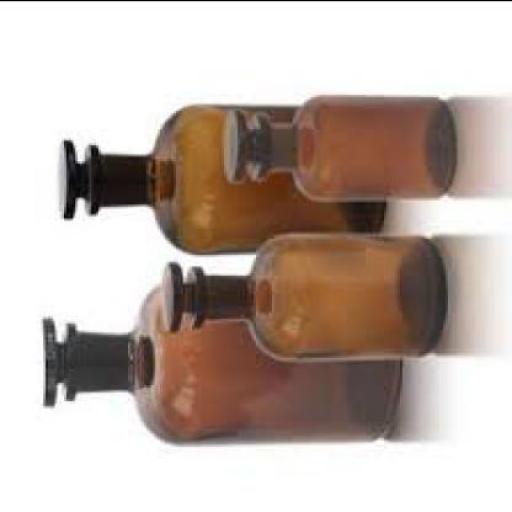glass: (40, 285, 402, 442), (55, 103, 388, 251), (160, 226, 446, 359), (221, 91, 458, 197)
